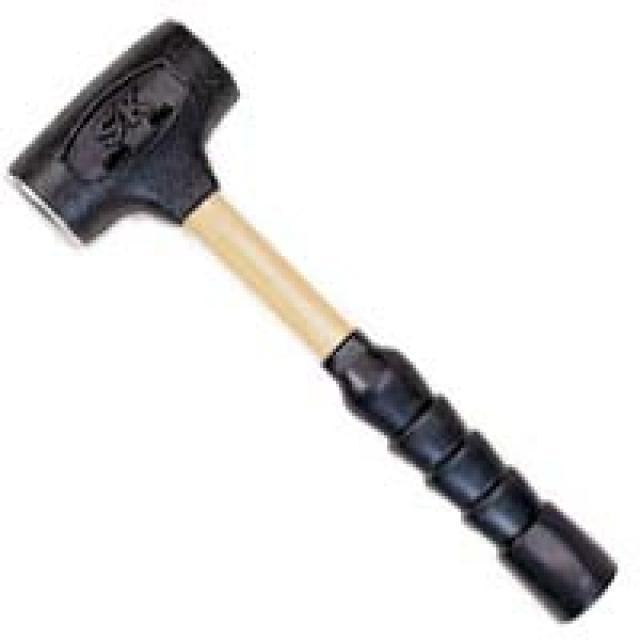hammer: (0, 6, 624, 628)
